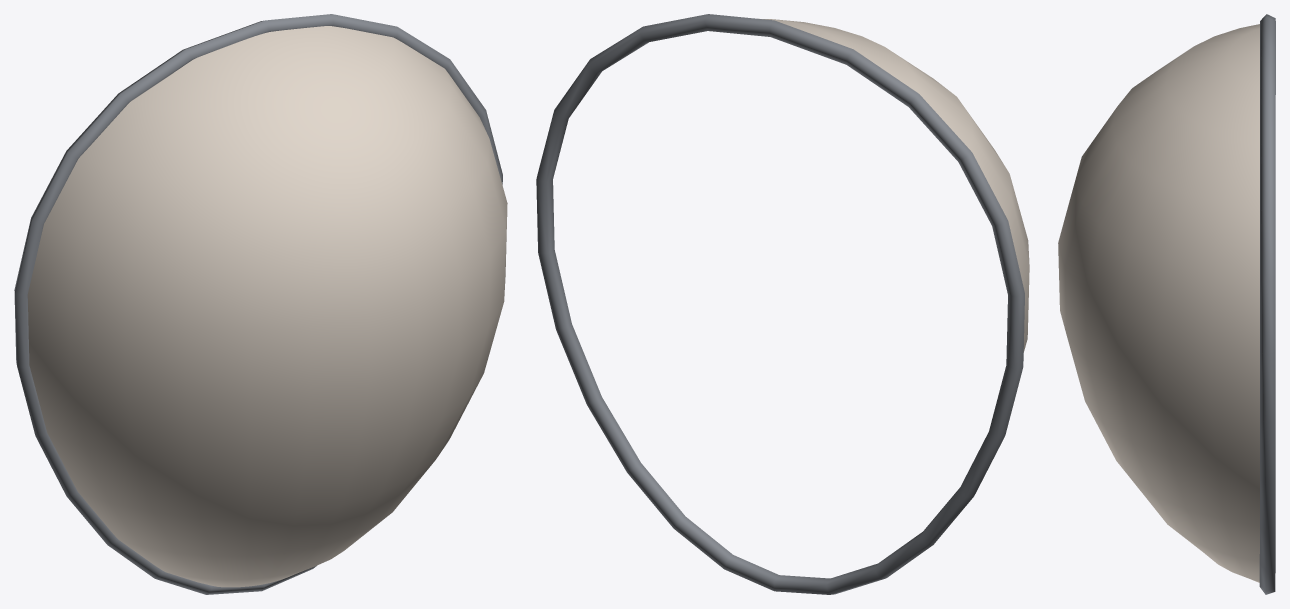
File: mannequin_FacePlate.glb
3 renders of one model, left to right at view 1: azimuth 30°, elevation 25°; view 2: azimuth 150°, elevation 25°; view 3: azimuth 270°, elevation 25°, orthographic. The views are drawn at different scales.
Parts seen in each view (by area): view 1: FacePlate; view 2: FacePlate; view 3: FacePlate.
Boxes of the visible parts, x1=… form: FacePlate: x1=14, y1=14, x2=507, y2=594; FacePlate: x1=536, y1=14, x2=1029, y2=594; FacePlate: x1=1058, y1=14, x2=1275, y2=594.
Size of the model in its own units: 0.4375 by 0.4882 by 0.179.
